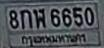0: (84, 6, 93, 25)
5: (72, 6, 82, 26)
6: (50, 8, 60, 26), (62, 7, 71, 26)
8: (9, 9, 18, 28)
A01: (20, 9, 31, 28)
A42: (33, 8, 45, 27)
BKK: (20, 32, 88, 44)
